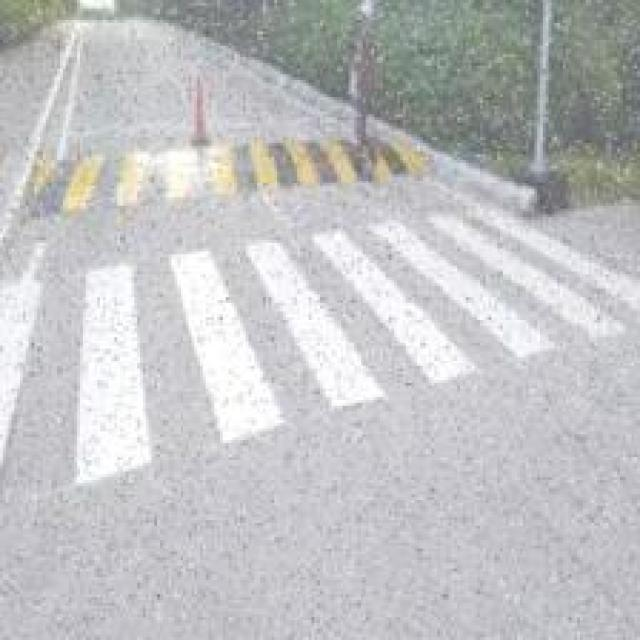walk-crossing: (0, 215, 630, 443)
